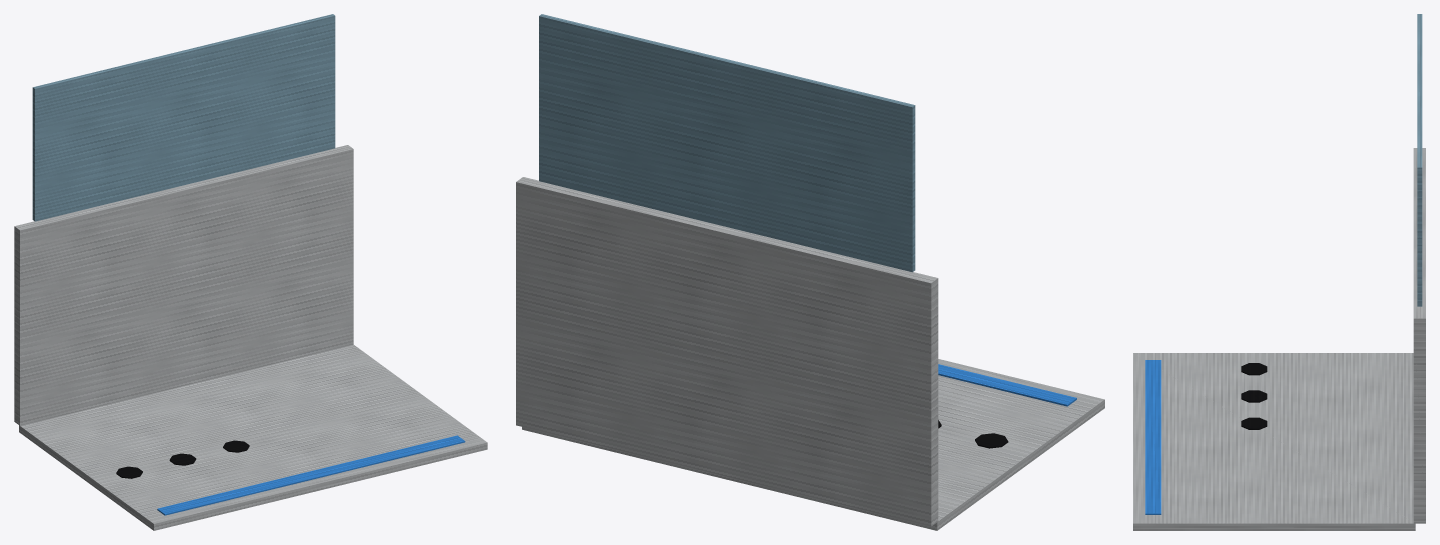
File: reducao_peso_n2.glb
3 renders of one model, left to right at view 1: azimuth 30°, elevation 25°; view 2: azimuth 150°, elevation 25°; view 3: azimuth 270°, elevation 25°, orthographic. The views are drawn at different scales.
Parts seen in each view (by area): view 1: reducao_peso_n2; view 2: reducao_peso_n2; view 3: reducao_peso_n2.
Part boxes in pixels (x1=…): reducao_peso_n2: x1=14, y1=14, x2=487, y2=530; reducao_peso_n2: x1=516, y1=14, x2=1104, y2=530; reducao_peso_n2: x1=1133, y1=14, x2=1425, y2=530.
Size of the model in its own units: 1 by 0.97 by 0.725.
2 materials, 2 textured.
